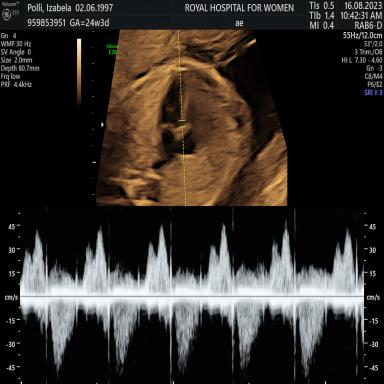Ultrasound-Waves: (27, 211, 360, 384)
